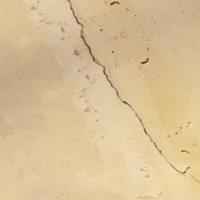crack: (61, 0, 192, 184)
